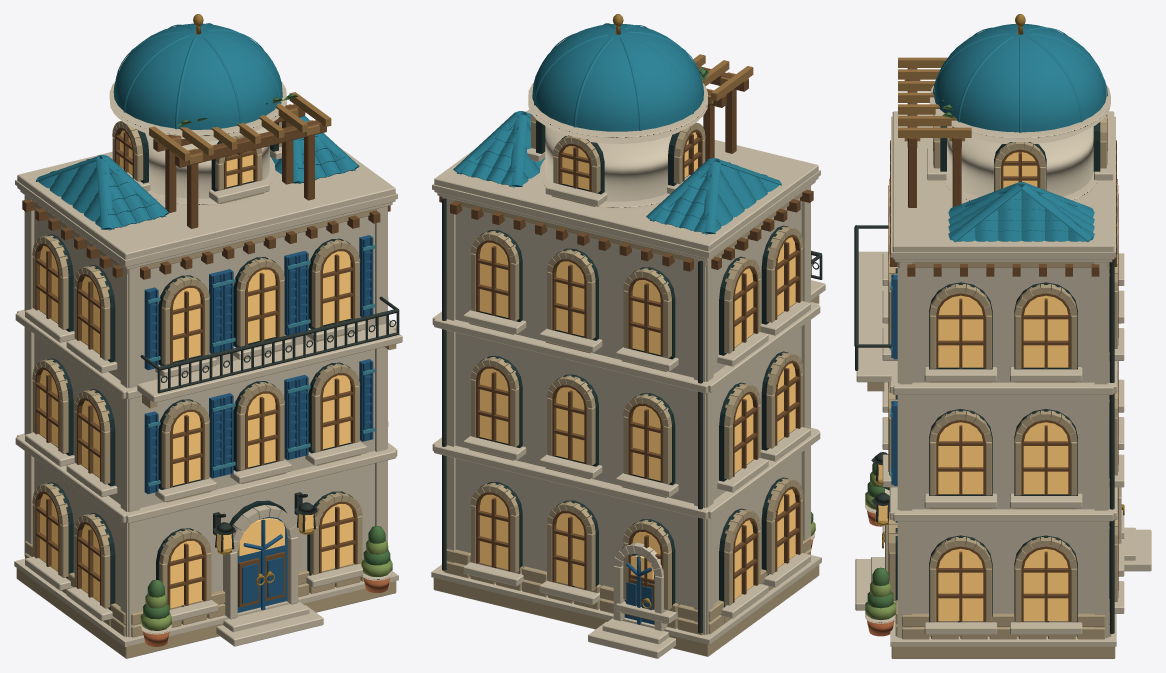
3 views of the same model, side by side, from view 1: azimuth 30°, elevation 25°; view 2: azimuth 150°, elevation 25°; view 3: azimuth 270°, elevation 25° (orthographic). The views are drawn at different scales.
Parts seen in each view (by area): view 1: harbor_tower_3_geometry, harbor_tower_3_geometry ceramic; view 2: harbor_tower_3_geometry, harbor_tower_3_geometry ceramic; view 3: harbor_tower_3_geometry, harbor_tower_3_geometry ceramic.
Boxes of the visible parts, x1,y1,x2,y2 form: harbor_tower_3_geometry: [14, 14, 402, 658]; harbor_tower_3_geometry ceramic: [36, 23, 375, 486]; harbor_tower_3_geometry: [431, 14, 825, 658]; harbor_tower_3_geometry ceramic: [453, 23, 781, 234]; harbor_tower_3_geometry: [854, 14, 1151, 658]; harbor_tower_3_geometry ceramic: [890, 24, 1107, 476].
Size of the model in its own units: 0.934 by 1.76 by 0.8203.
